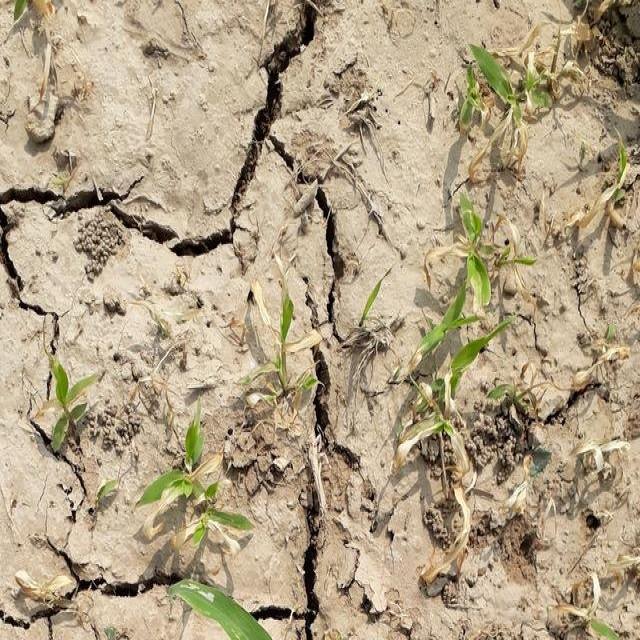weed: (421, 36, 538, 407), (132, 411, 267, 640)
